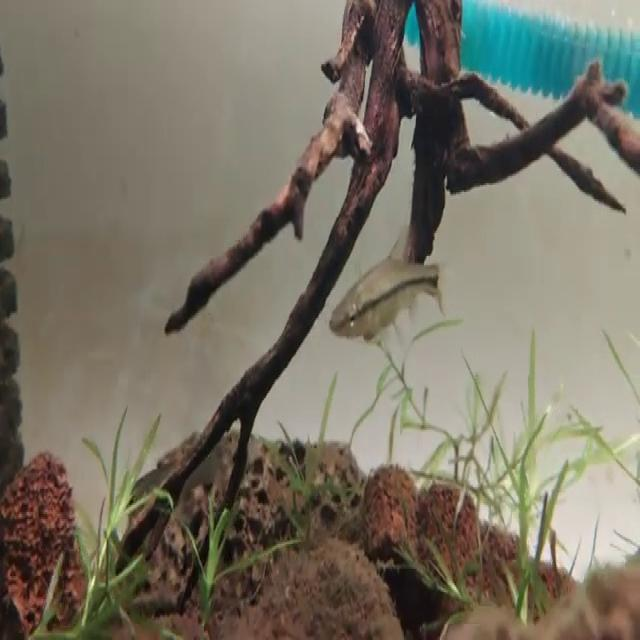Cakil Baligi: (327, 222, 446, 345)
